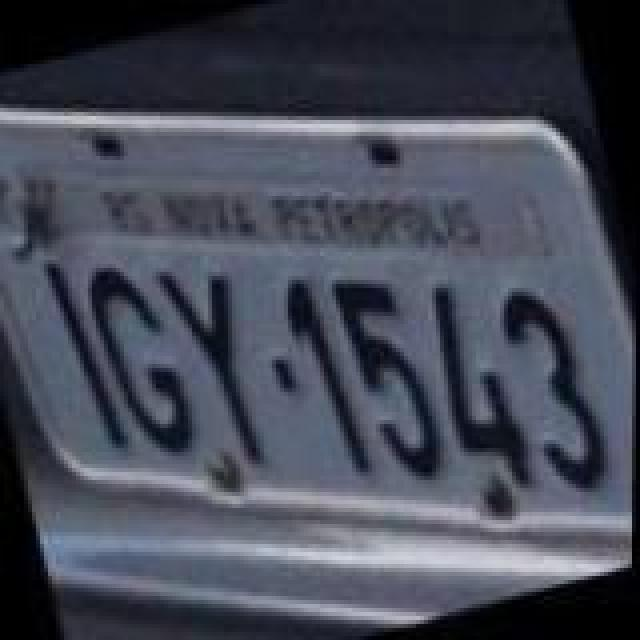1: (272, 268, 376, 484), (38, 252, 138, 460)
3: (492, 272, 624, 504)
4: (418, 272, 546, 508)
5: (326, 260, 454, 496)
G: (76, 254, 204, 474)
Y: (152, 256, 280, 484)
